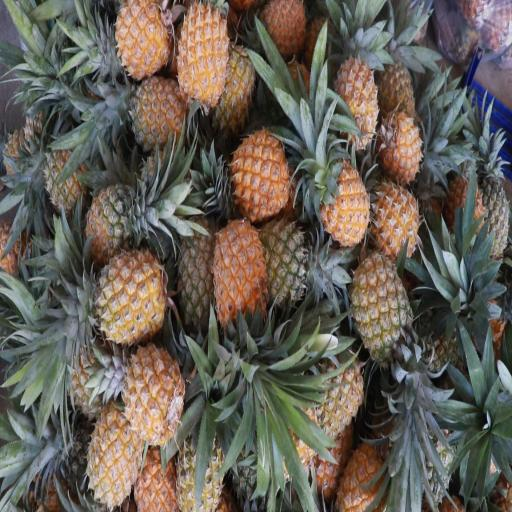------------------------------: (343, 245, 417, 369), (172, 408, 226, 510), (84, 180, 147, 263)
Pineapple - v8 v1: (82, 247, 169, 348), (208, 181, 266, 323), (118, 337, 188, 449), (117, 62, 190, 156), (83, 396, 143, 509), (224, 122, 290, 219), (332, 32, 382, 156), (174, 4, 231, 104), (309, 343, 368, 439), (316, 155, 372, 254), (114, 0, 169, 78), (369, 176, 420, 258), (254, 0, 312, 70), (374, 106, 422, 189)
